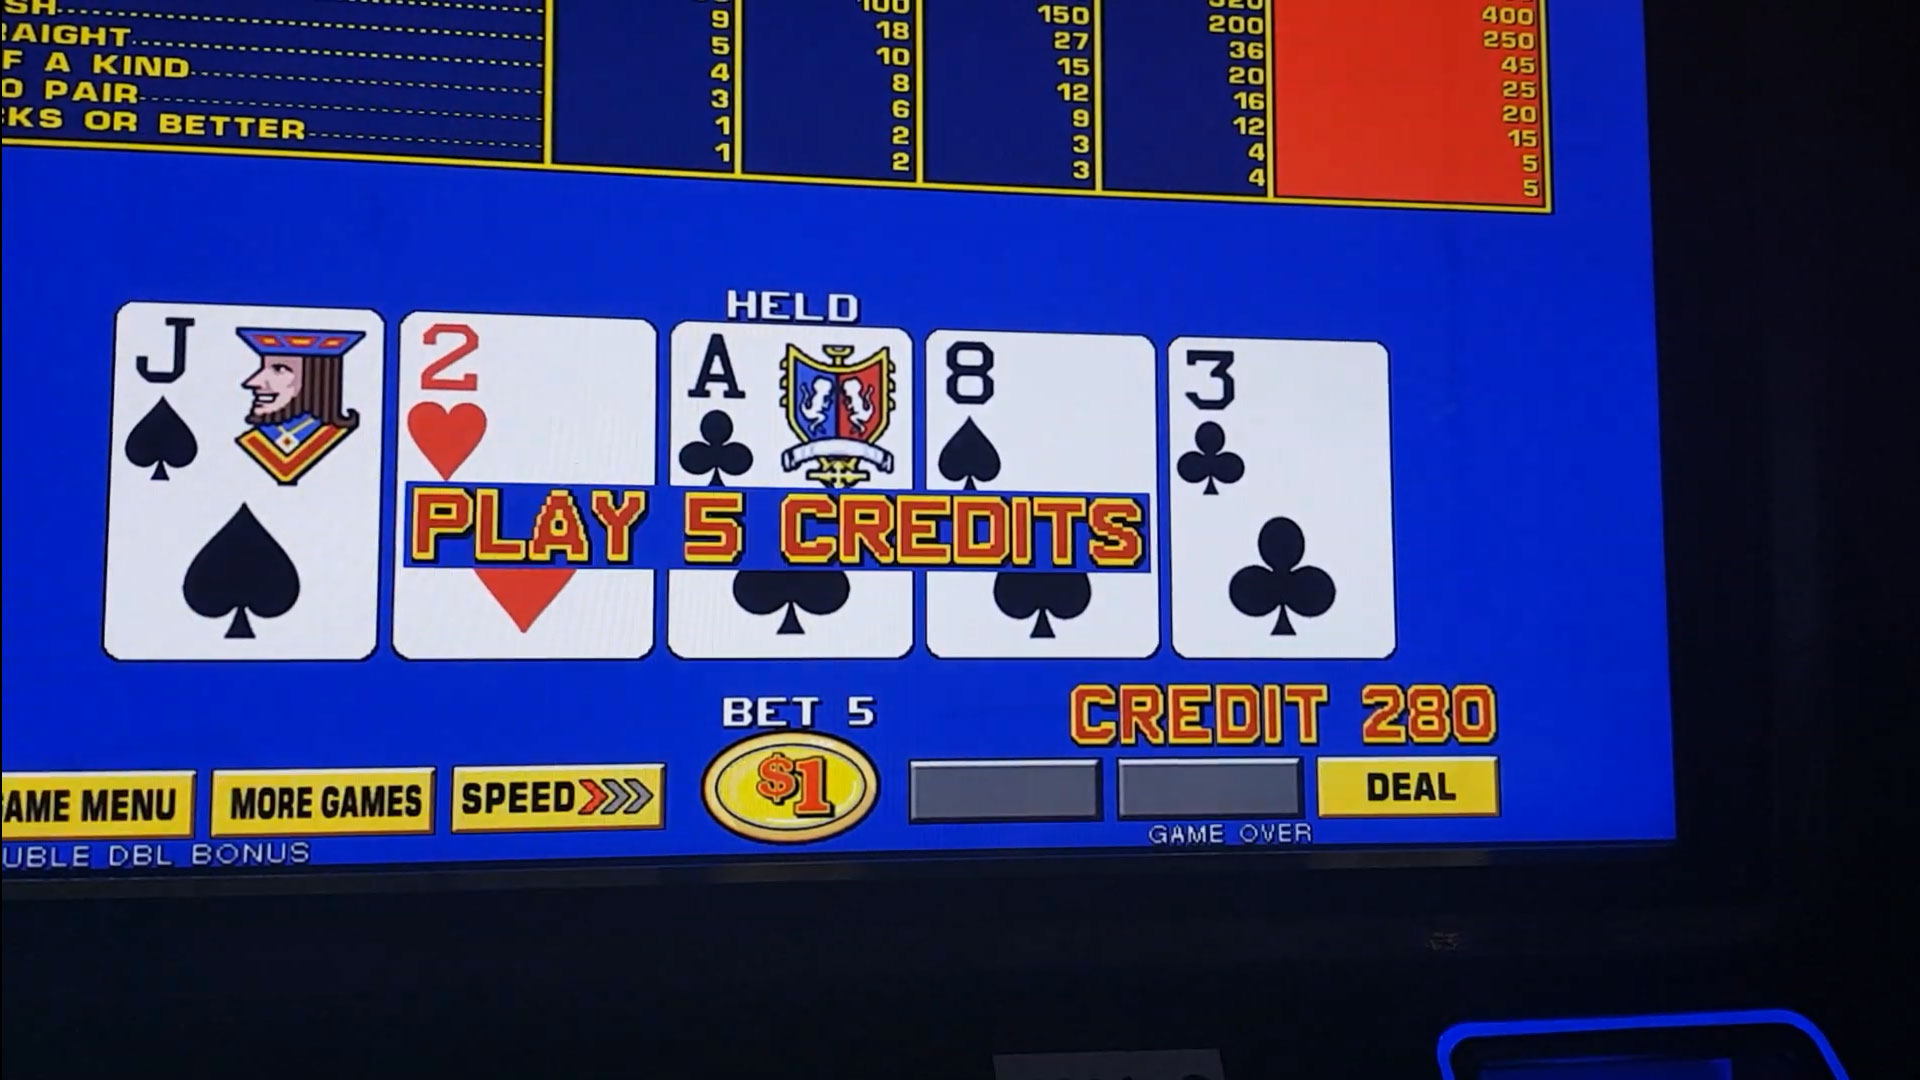C3: (1172, 344, 1385, 505)
CA: (674, 331, 907, 485)
H2: (405, 322, 647, 477)
S8: (932, 342, 1149, 487)
SJ: (119, 314, 377, 493)
